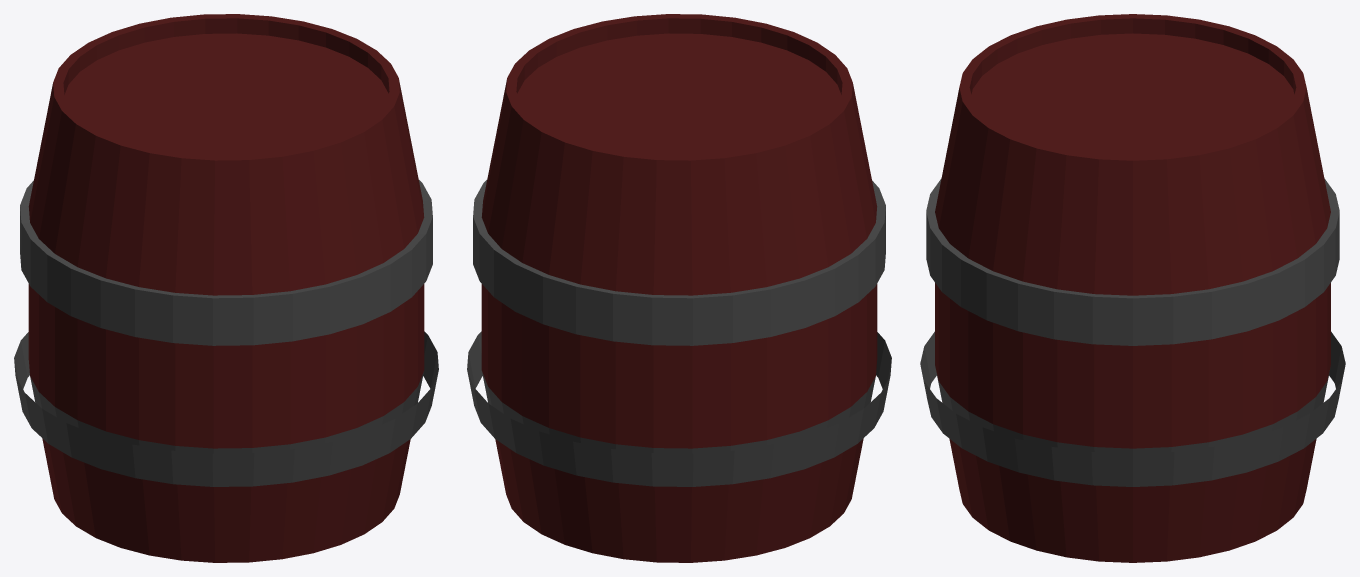
Rendered from simplebarrel.glb.
3 views of the same model, side by side, from view 1: azimuth 30°, elevation 25°; view 2: azimuth 150°, elevation 25°; view 3: azimuth 270°, elevation 25° (orthographic).
Visible parts, largest first — view 1: Cylinder; view 2: Cylinder; view 3: Cylinder.
Boxes of the visible parts, x1,y1,x2,y2 form: Cylinder: [14, 14, 438, 562]; Cylinder: [467, 14, 891, 562]; Cylinder: [920, 14, 1345, 562].
Size of the model in its own units: 1.06 by 1.1 by 1.06.
